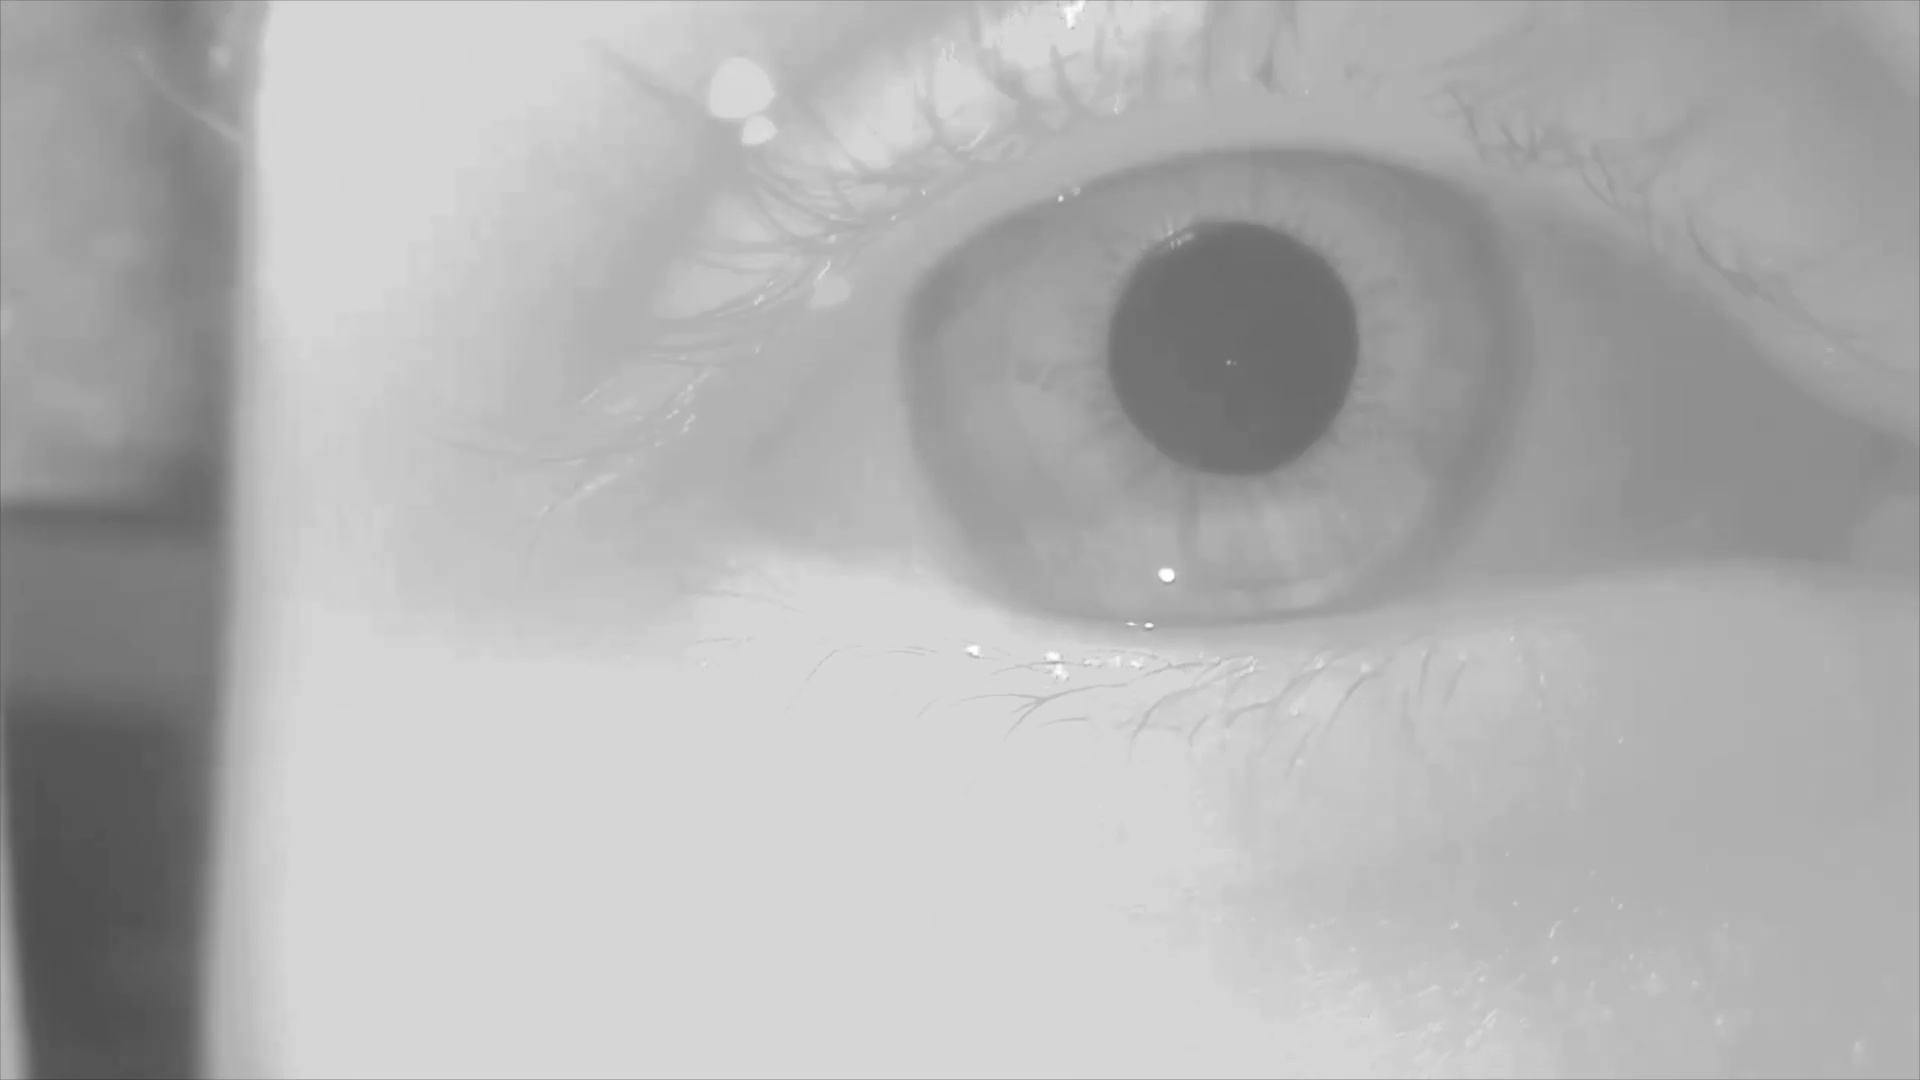pupil: (1107, 221, 1363, 477)
